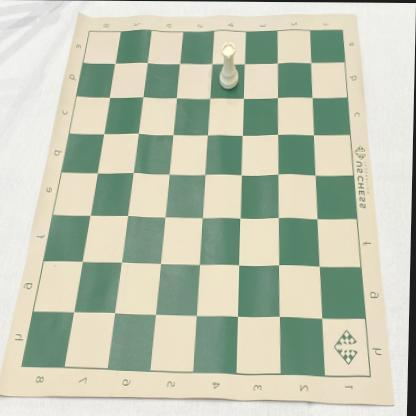white-rook: (218, 41, 240, 90)
